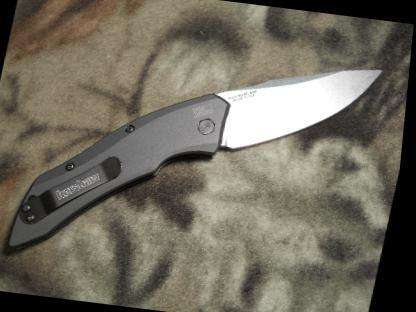knife: (180, 40, 400, 173)
